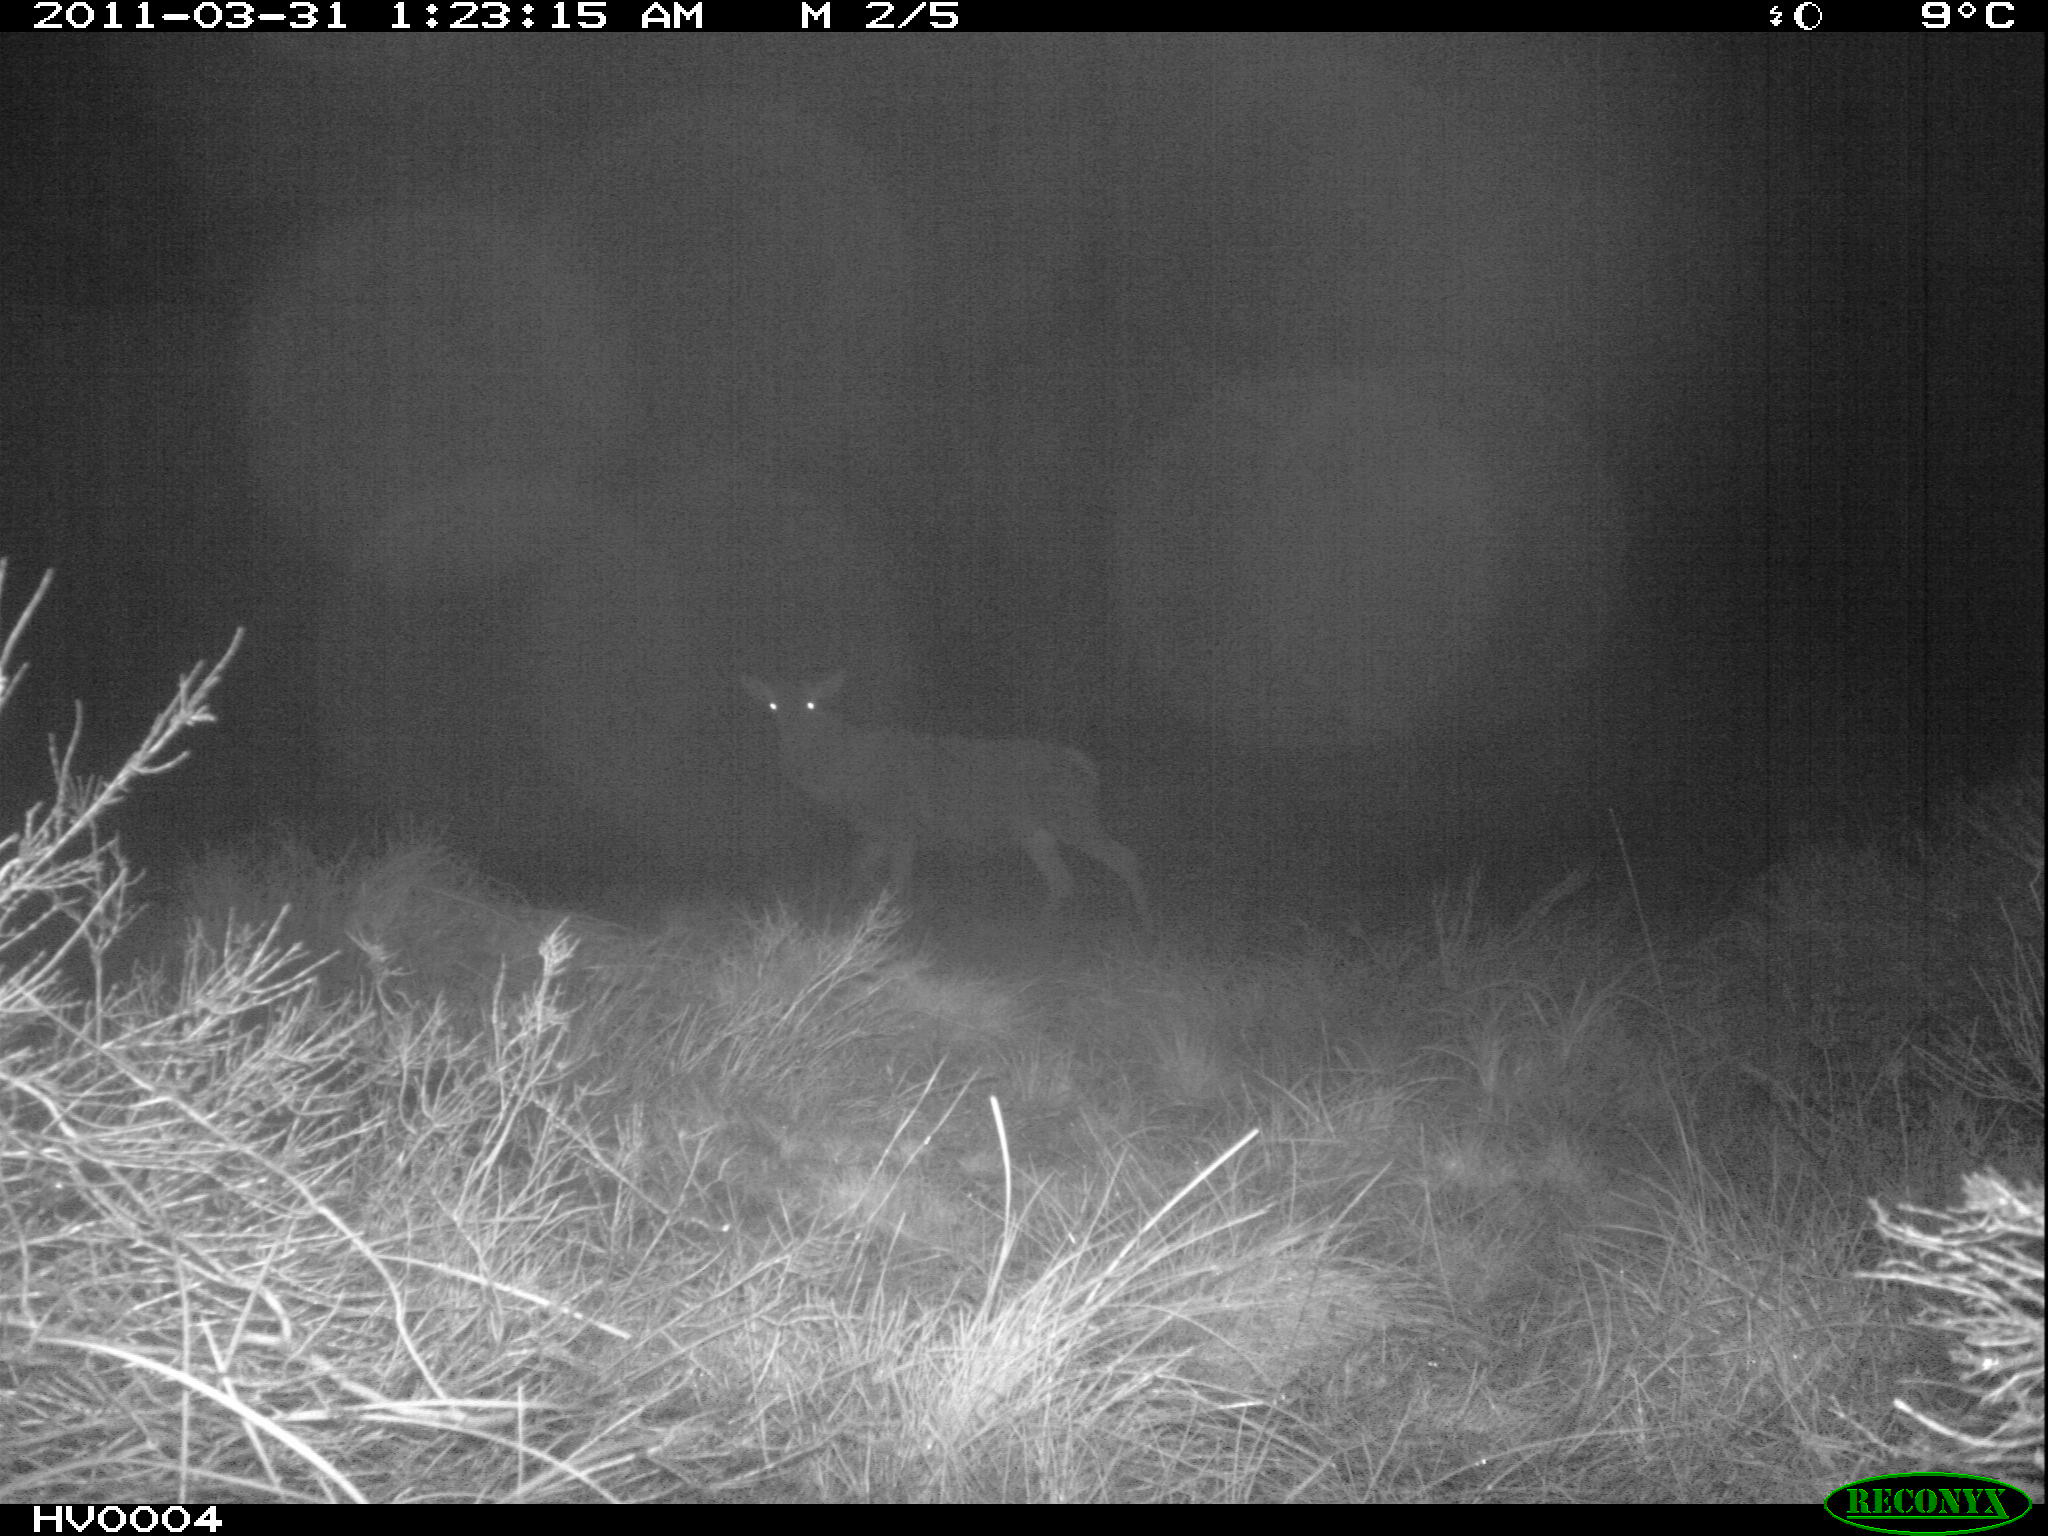Deer: (737, 662, 1171, 957)
